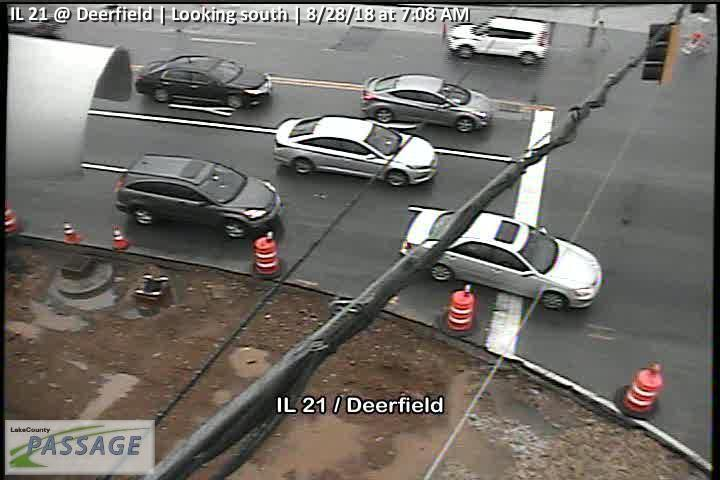SUV: (111, 153, 281, 241), (444, 18, 552, 65)
Sedan: (400, 206, 601, 312), (272, 116, 440, 186), (358, 73, 492, 131), (134, 56, 273, 110)
